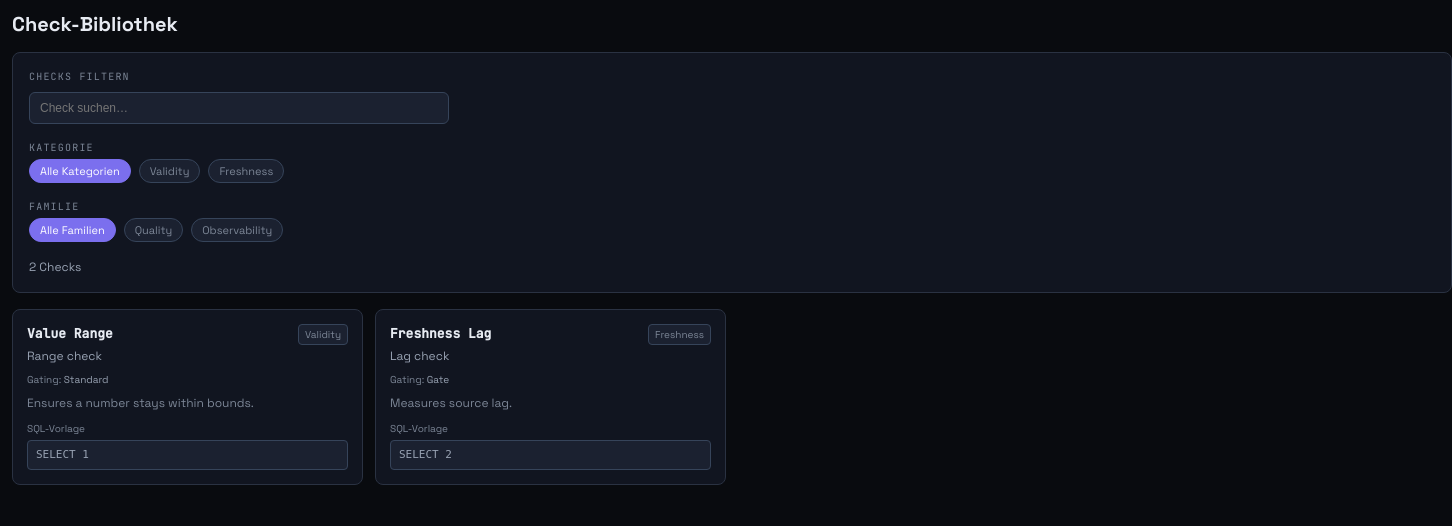
Test: CheckLibrary › syncs filter changes back into the URL and can clear them
This screenshot has width=1452, height=526.
Click the button "Validity": (170, 171) [139,159,200,183]
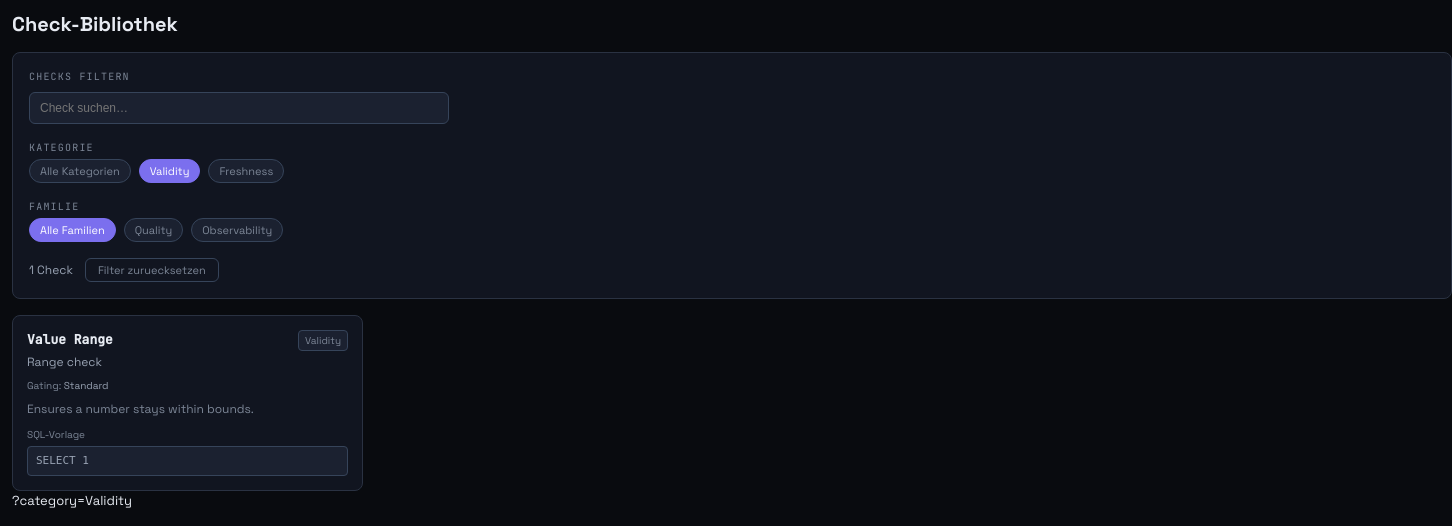
Now the text with test id "location" reads "?category=Validity", box [12,492,132,509]
Click the button "Quality": (154, 230) [124,218,183,242]
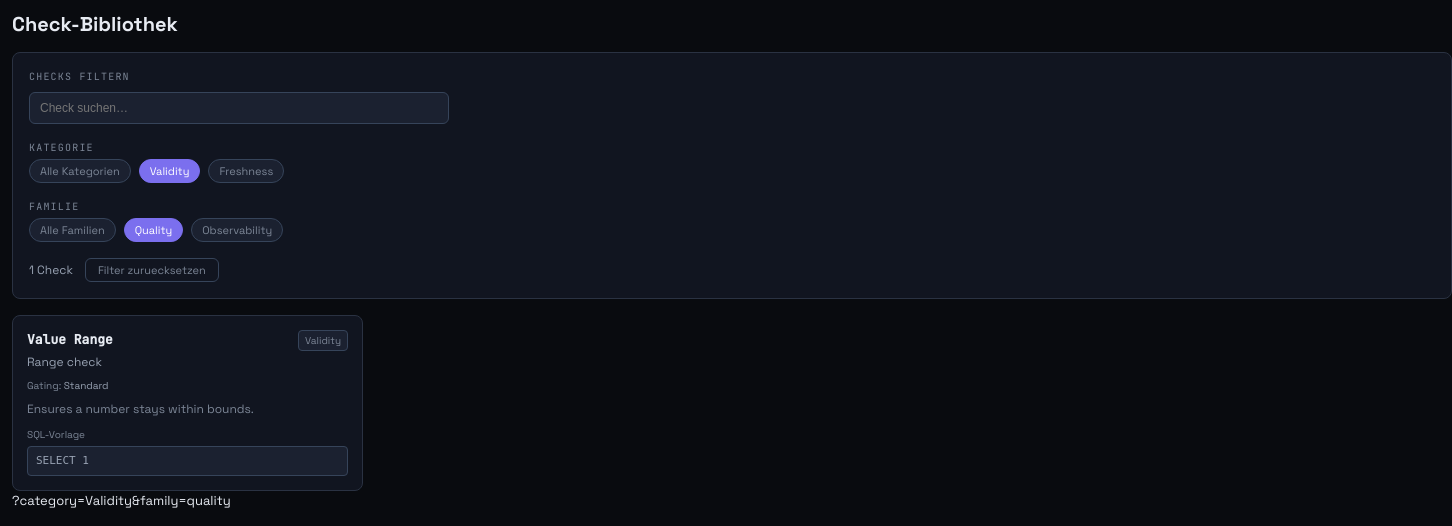
Now the text "1 Check" is shown, box [29,261,73,279]
Now the text with test id "location" shows "family=quality", box [12,492,231,509]
Click the button "Filter zuruecksetzen": (152, 270) [85,258,219,282]
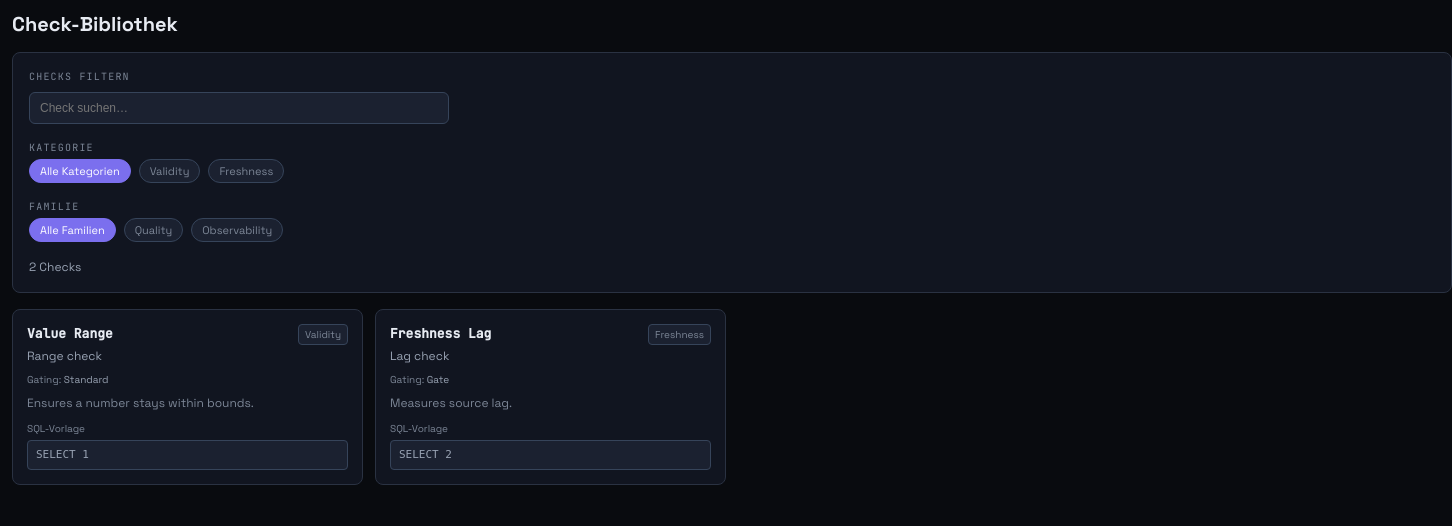
Now the text "2 Checks" is shown, box [29,258,81,276]
